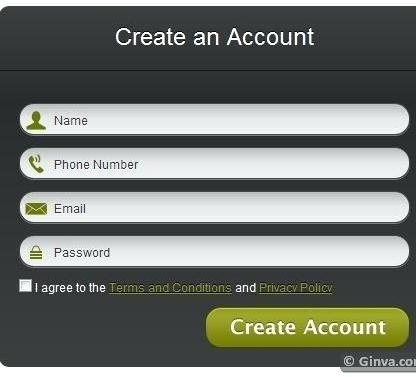button: (205, 306, 409, 349)
checkbox: (18, 278, 33, 293)
checkbox_with_label: (15, 276, 333, 296)
field: (17, 147, 412, 181), (17, 235, 410, 269), (18, 190, 410, 224), (18, 102, 409, 136)
